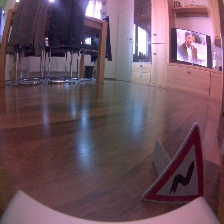vorsicht: (140, 122, 211, 205)
